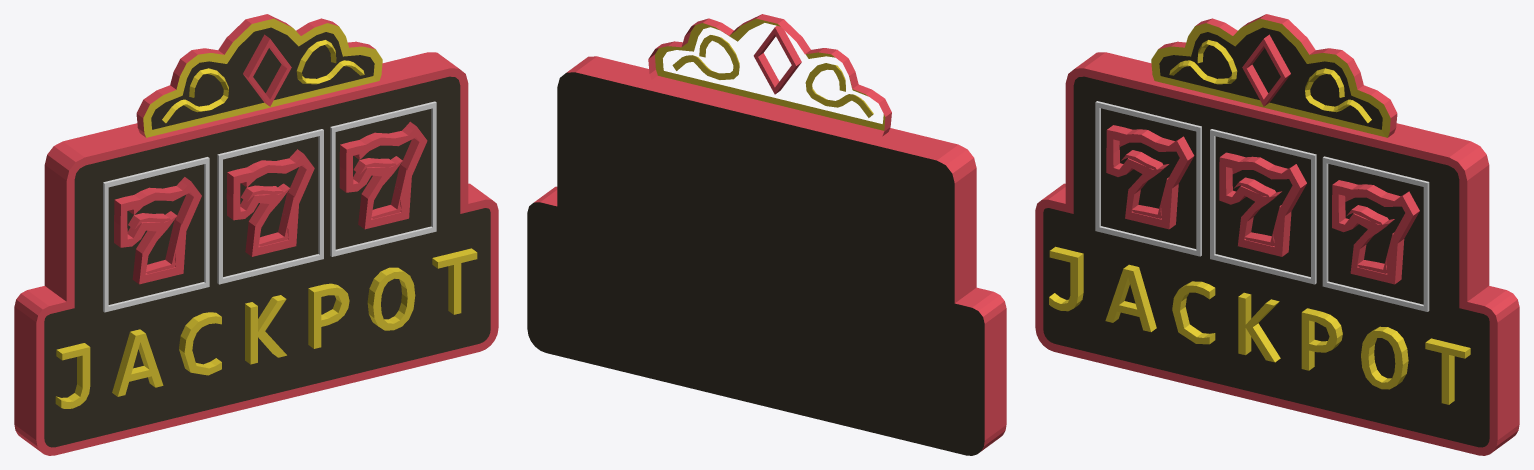
File: Cartel1.fbx
3 views of the same model, side by side, from view 1: azimuth 30°, elevation 25°; view 2: azimuth 150°, elevation 25°; view 3: azimuth 330°, elevation 25° (orthographic).
Visible parts, largest first — view 1: Text.002; view 2: Text.002; view 3: Text.002.
Boxes of the visible parts, x1=… form: Text.002: x1=14, y1=14, x2=498, y2=455; Text.002: x1=527, y1=14, x2=1006, y2=455; Text.002: x1=1035, y1=14, x2=1519, y2=455.
Size of the model in its own units: 1 by 0.7861 by 0.1076.
